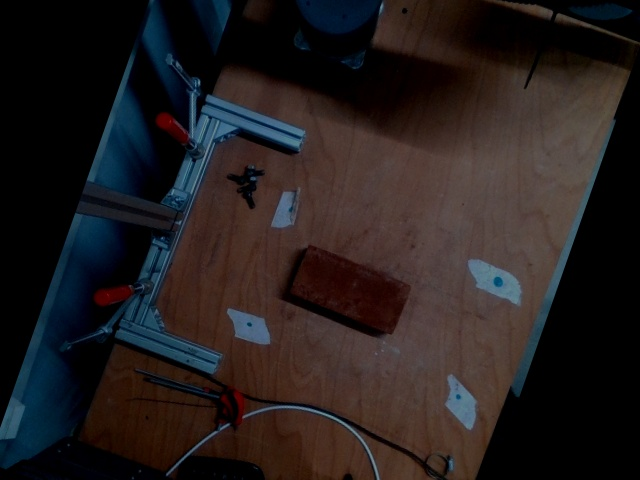brick: (288, 245, 408, 334)
